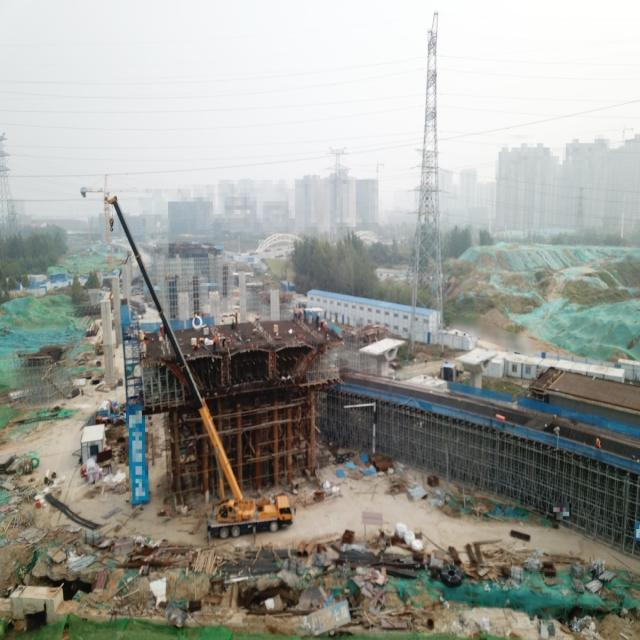crane: (104, 196, 293, 539), (79, 176, 190, 272)
